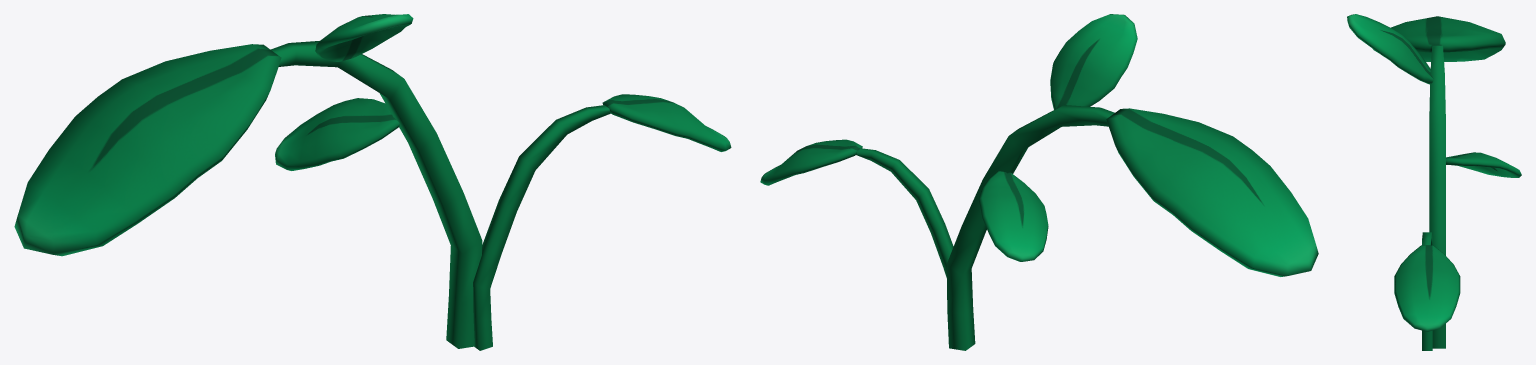
File: Veg_patata_S.fbx
3 renders of one model, left to right at view 1: azimuth 30°, elevation 25°; view 2: azimuth 150°, elevation 25°; view 3: azimuth 270°, elevation 25°, orthographic. The views are drawn at different scales.
Parts seen in each view (by area): view 1: patata S; view 2: patata S; view 3: patata S.
Part boxes in pixels (bbox=[...]): patata S: bbox=[14, 14, 731, 350]; patata S: bbox=[760, 14, 1318, 350]; patata S: bbox=[1347, 14, 1521, 350].
Size of the model in its own units: 4.88 by 8.7 by 15.6.
